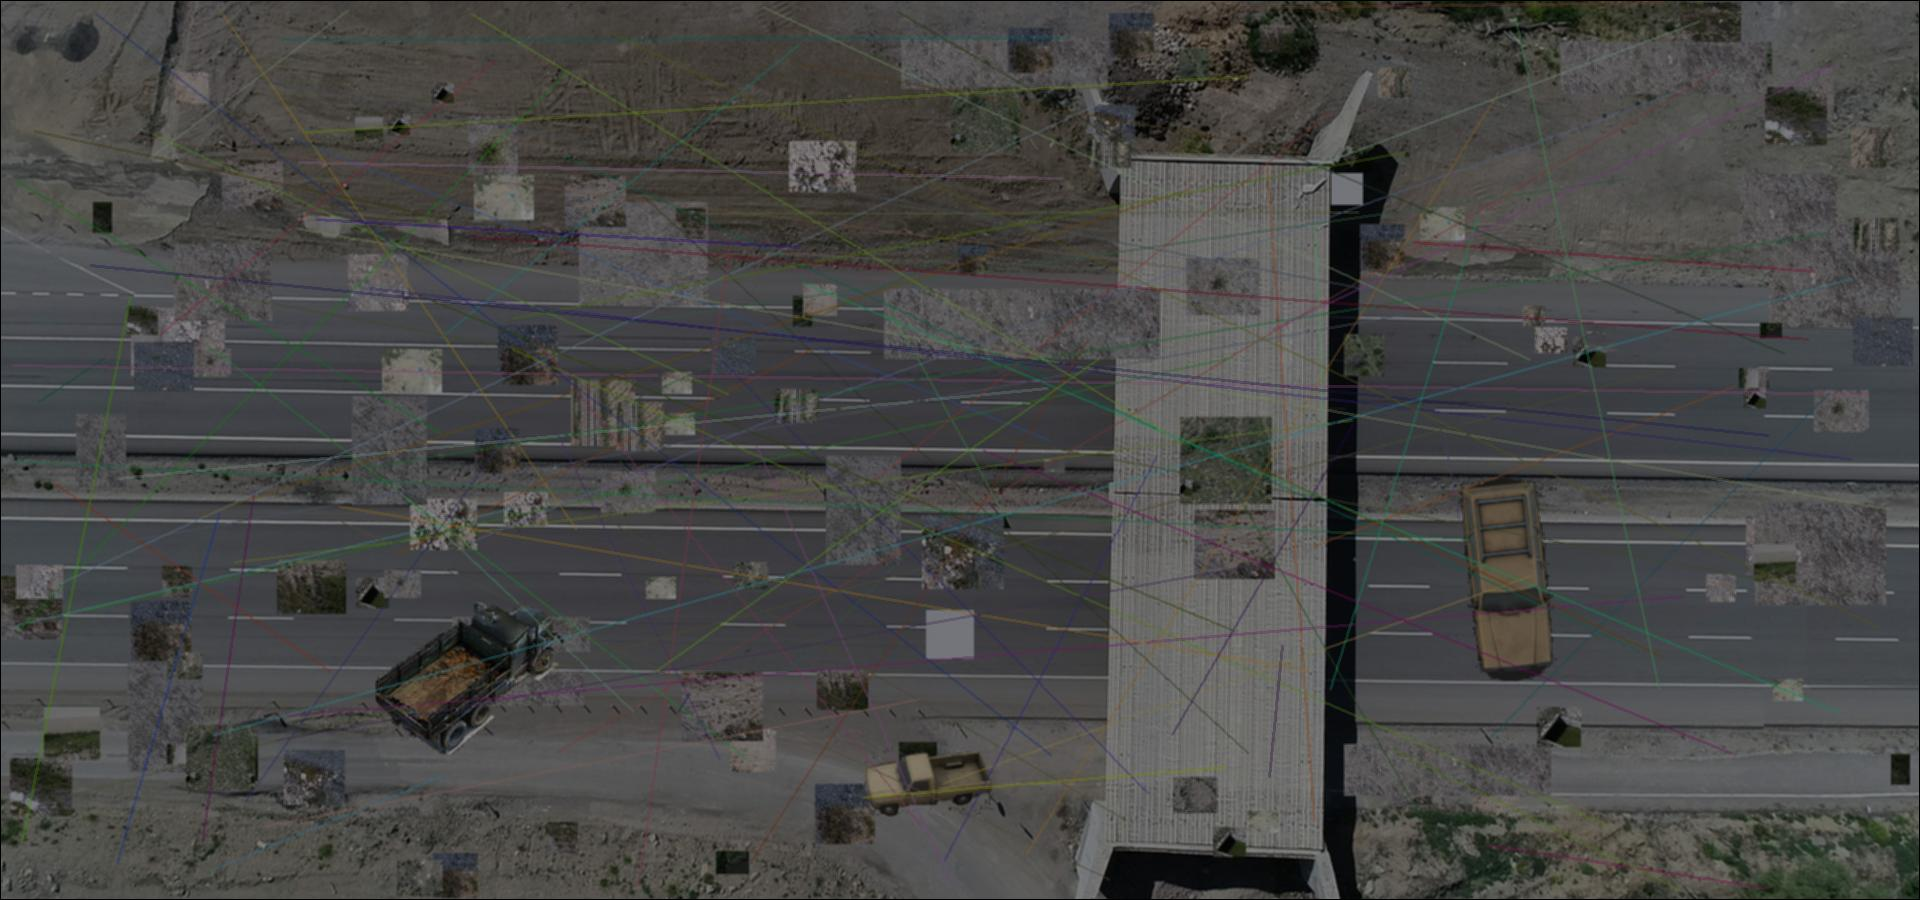arac: (376, 593, 564, 754), (1453, 478, 1560, 681), (862, 748, 993, 817)
